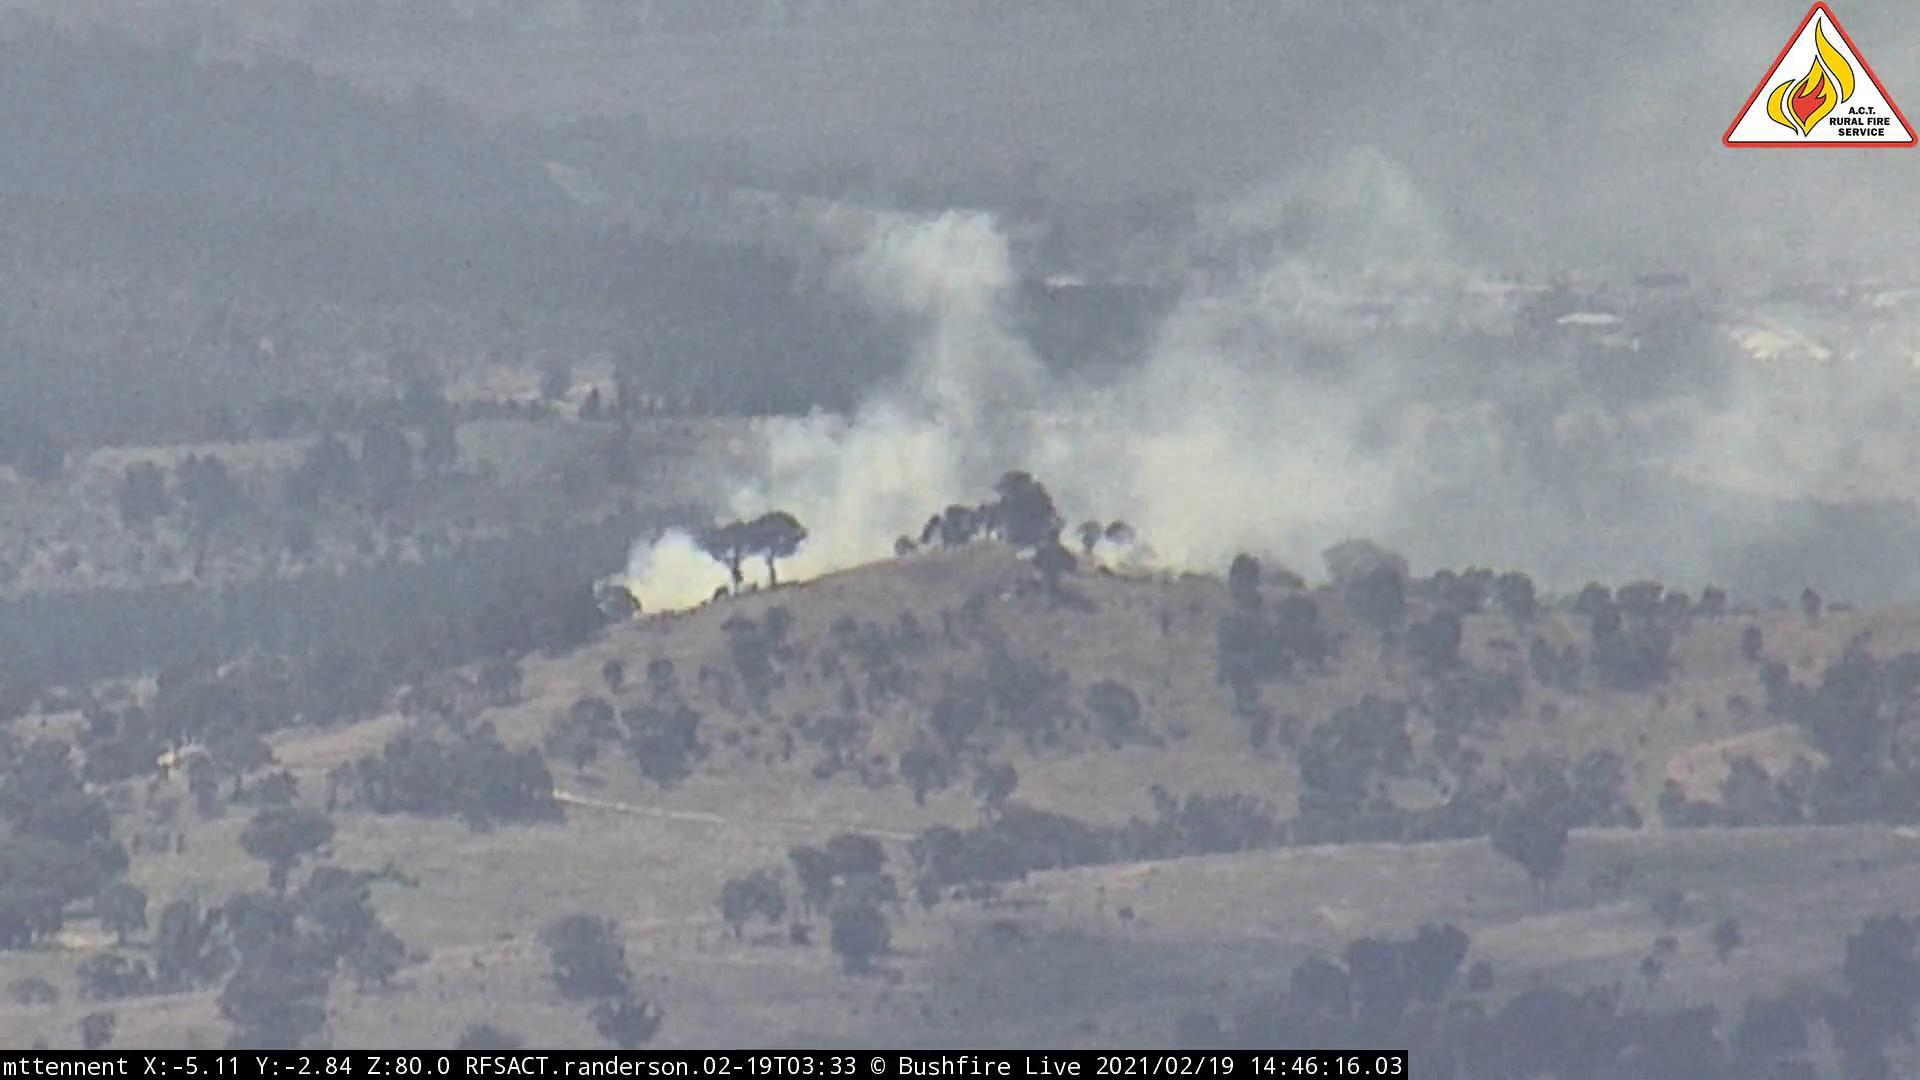Smoke: (605, 162, 1861, 622)
